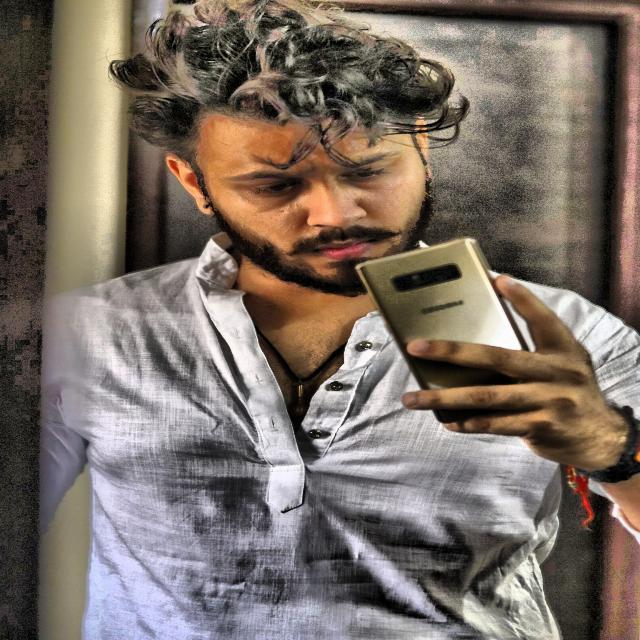Phone: (356, 234, 535, 425)
